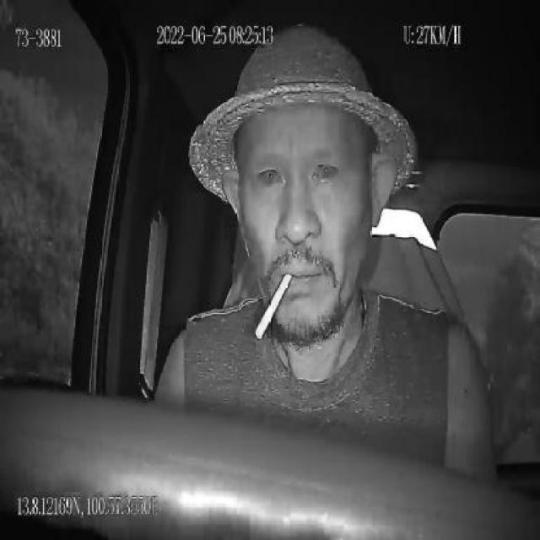smoking: (255, 267, 293, 345)
